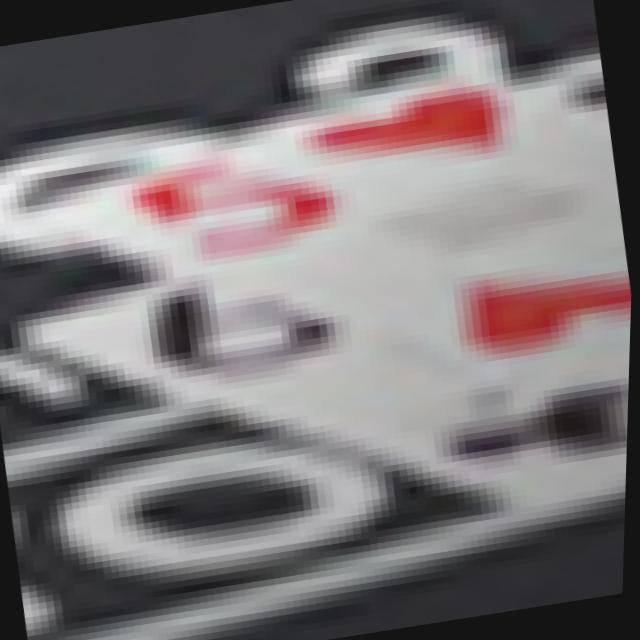Card-5: (54, 73, 633, 387)
Card-6: (29, 266, 631, 506)
